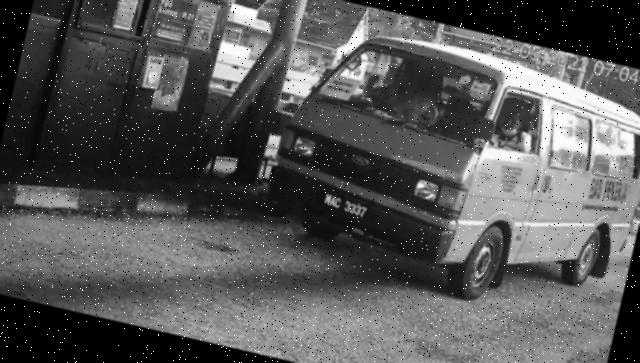License_Plate: (318, 188, 375, 225)
van: (254, 13, 640, 333)
